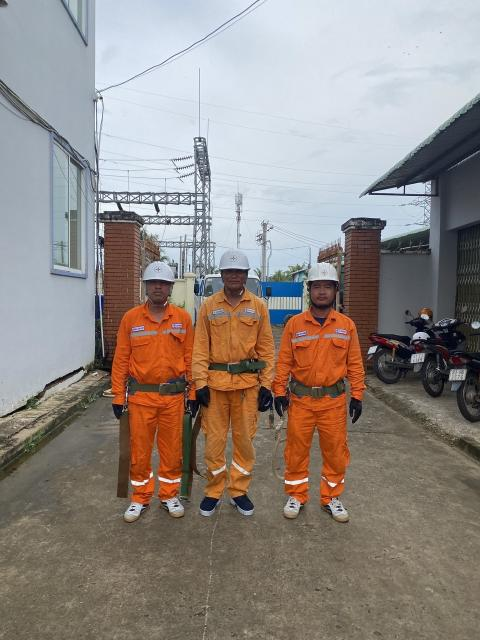gloves: (271, 390, 293, 421), (346, 397, 365, 427), (192, 385, 216, 408), (105, 400, 130, 420), (256, 386, 273, 409), (188, 398, 201, 417)
harness: (282, 374, 356, 403), (117, 370, 191, 397), (196, 353, 268, 378)
helmet: (304, 254, 345, 289), (136, 258, 177, 286), (213, 248, 257, 274)
shoes: (317, 498, 356, 526), (277, 489, 308, 520), (157, 493, 188, 522), (230, 488, 255, 519), (196, 490, 223, 517), (120, 496, 152, 518)
